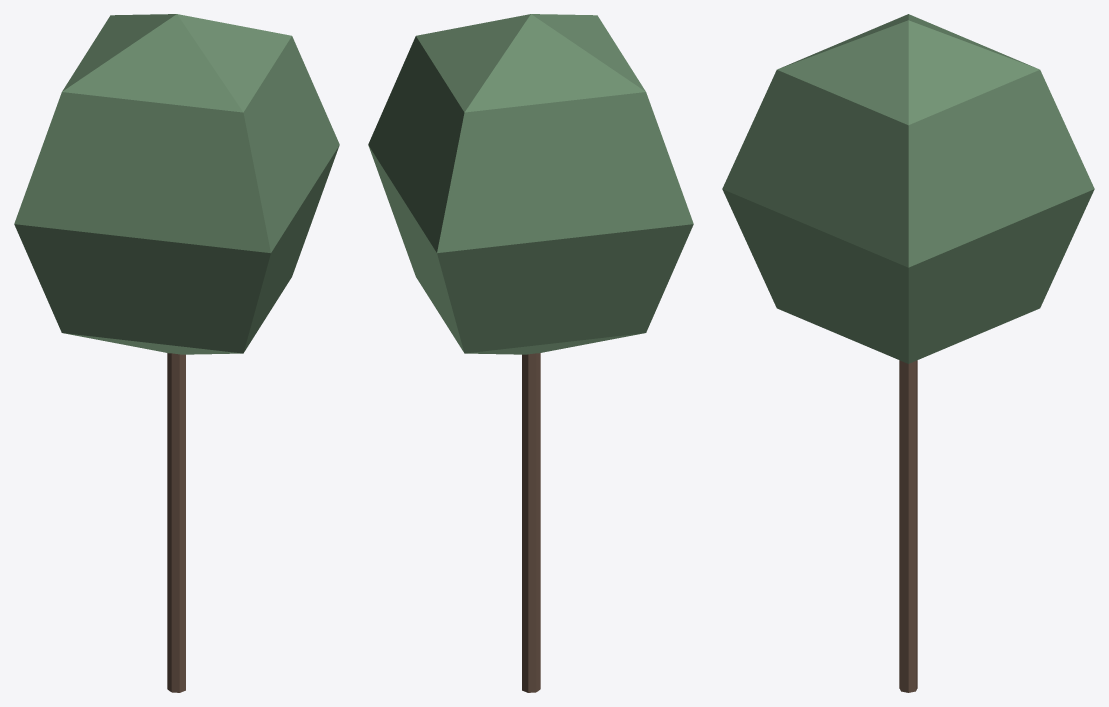
The model's file is tree_3.fbx.
3 views of the same model, side by side, from view 1: azimuth 30°, elevation 25°; view 2: azimuth 150°, elevation 25°; view 3: azimuth 270°, elevation 25° (orthographic).
Visible parts, largest first — view 1: pCylinder5; view 2: pCylinder5; view 3: pCylinder5.
Boxes of the visible parts, <box> form: pCylinder5: <box>14,14,339,692</box>; pCylinder5: <box>368,14,693,692</box>; pCylinder5: <box>722,14,1094,692</box>.
Bounding box in the file's own units: 94.48 × 187 × 94.48.
